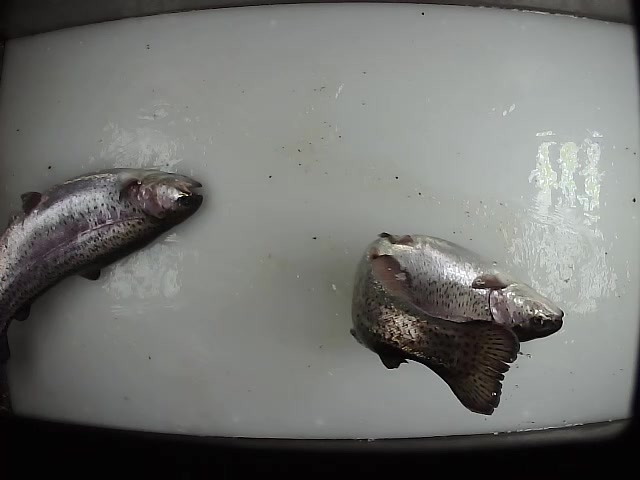fish: (1, 165, 208, 369), (348, 230, 567, 417)
